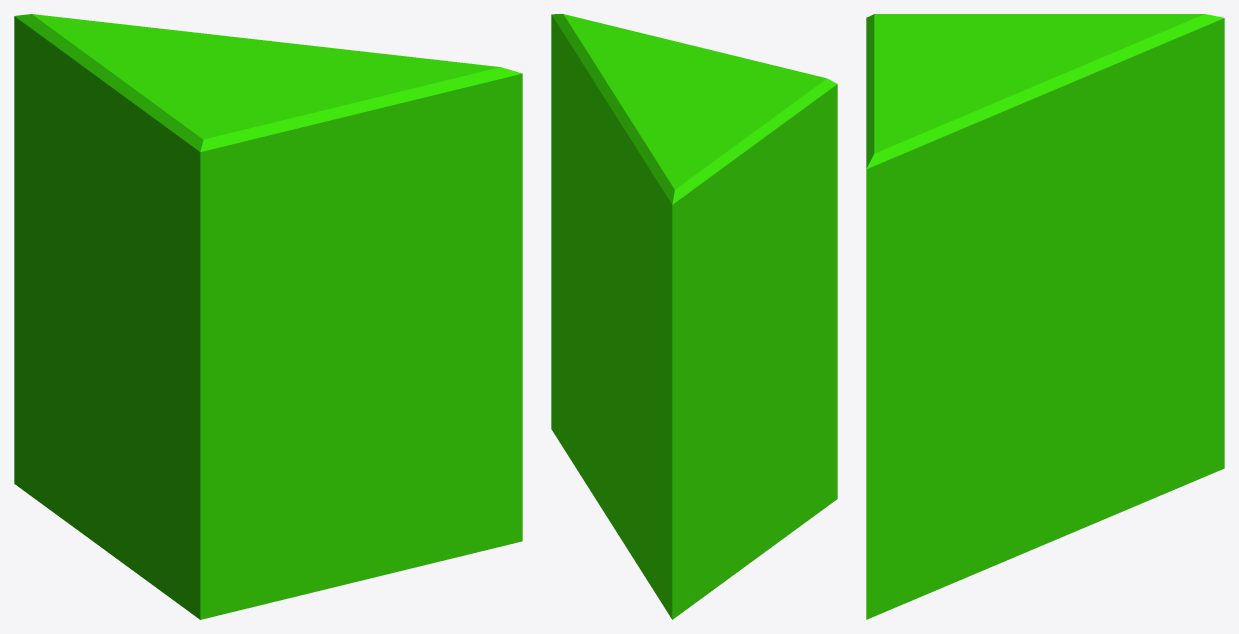
Rendered from triangle_2x3.fbx.
3 views of the same model, side by side, from view 1: azimuth 30°, elevation 25°; view 2: azimuth 150°, elevation 25°; view 3: azimuth 270°, elevation 25° (orthographic). The views are drawn at different scales.
Visible parts, largest first — view 1: triangle_2x3; view 2: triangle_2x3; view 3: triangle_2x3.
Part boxes in pixels (left/top/right/bottom): triangle_2x3: left=14, top=14, right=522, bottom=619; triangle_2x3: left=551, top=14, right=837, bottom=619; triangle_2x3: left=866, top=14, right=1224, bottom=619.
Bounding box in the file's own units: 220 × 310 × 220.
